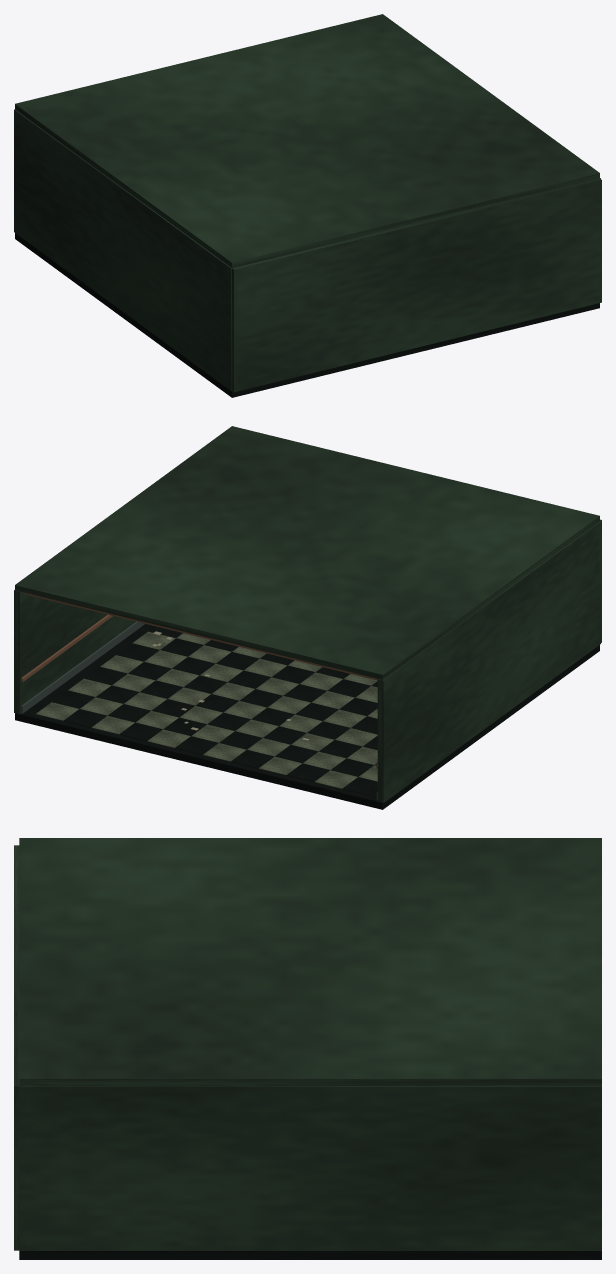
The model's file is ward-30.glb.
3 renders of one model, top to bottom at view 1: azimuth 30°, elevation 25°; view 2: azimuth 150°, elevation 25°; view 3: azimuth 270°, elevation 25°, orthographic. The views are drawn at different scales.
Visible parts, largest first — view 1: Floor30Environment; view 2: Floor30Environment; view 3: Floor30Environment.
Boxes of the visible parts, <box> form: Floor30Environment: <box>14,14,601,397</box>; Floor30Environment: <box>14,426,601,809</box>; Floor30Environment: <box>14,838,601,1259</box>.
Size of the model in its own units: 13.26 by 4.63 by 13.62.
Materials: 9 (4 with a texture image).
